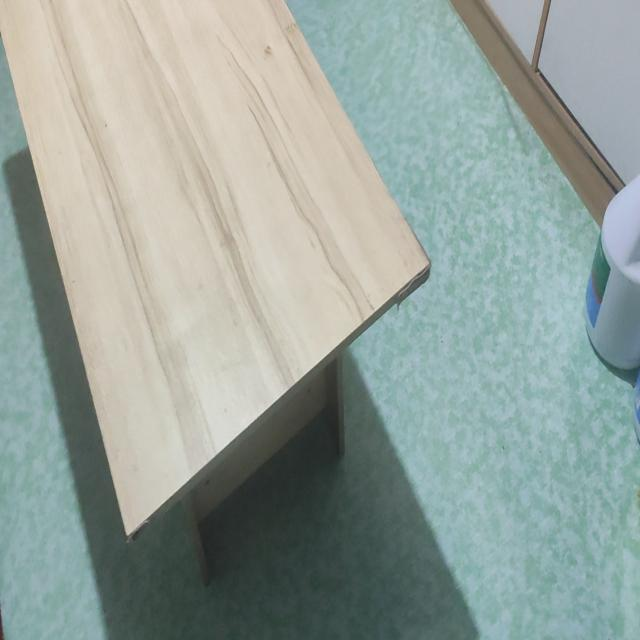table: (0, 0, 432, 574)
